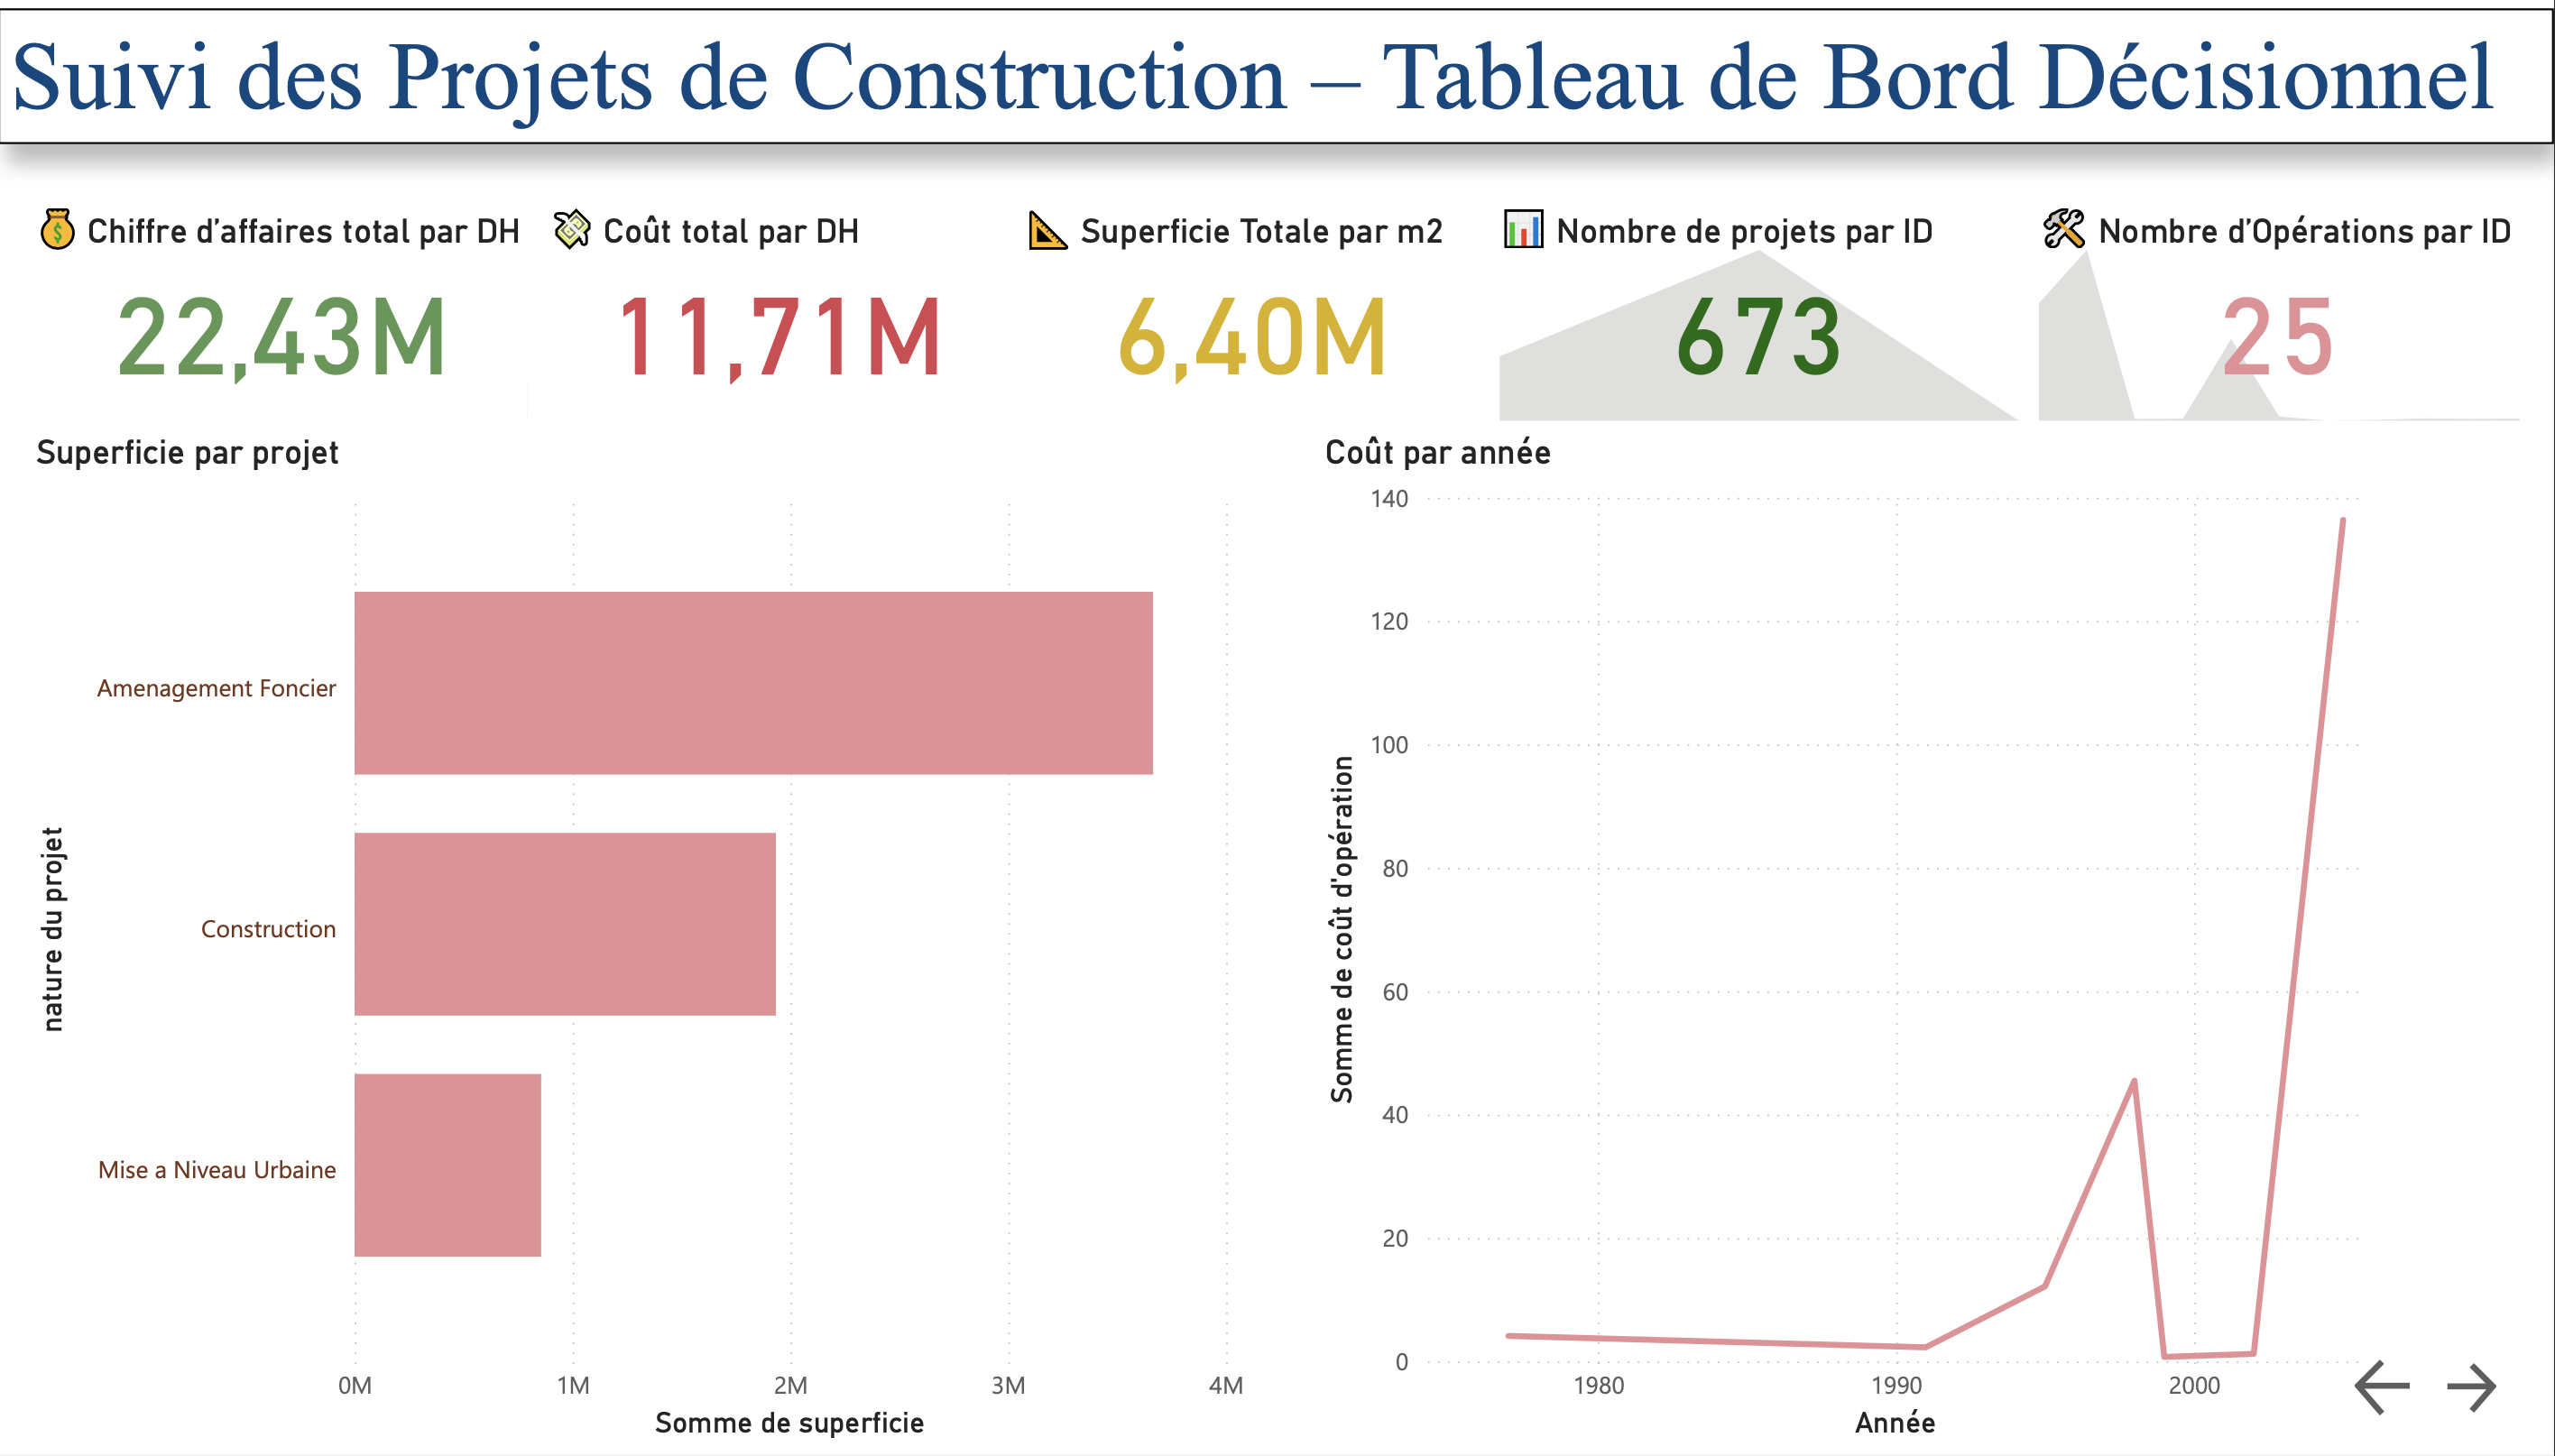

The page's visual inventory and layout, read from the dashboard file:
{"tool":"powerbi","page":{"name":"Page 2","canvas":[1280,720],"ordinal":1},"visuals":[{"type":"textbox","box":[0,0,1280,68.1],"z":0},{"type":"kpi","fields":{"Indicator":["Sum(FactSuivi.CA)"],"TrendLine":["FactSuivi.CA"]},"box":[14.3,96.8,256.4,114.7],"z":1000},{"type":"kpi","fields":{"Indicator":["Sum(FactSuivi.coût_opération)"],"TrendLine":["FactSuivi.coût_opération"]},"box":[270.7,96.8,238.4,114.7],"z":2000},{"type":"kpi","fields":{"Indicator":["Sum(FactSuivi.superficie )"],"TrendLine":["FactSuivi.superficie "]},"box":[509.1,96.8,238.4,114.7],"z":3000},{"type":"kpi","fields":{"Indicator":["CountNonNull(FactSuivi.ID_Projet)"],"TrendLine":["FactSuivi.ID_Projet"]},"box":[747,96.8,269.9,114.5],"z":4000},{"type":"barChart","title":"Superficie par projet","fields":{"Y":["Sum(FactSuivi.superficie )"],"Category":["DimProjet.nature_projet"]},"box":[14.3,211.5,614.9,509.1],"z":5000},{"type":"lineChart","title":"Coût par année","fields":{"Y":["Sum(FactSuivi.coût_opération)"],"Category":["DimDate.Année"]},"box":[659.7,211.5,532.4,509.1],"z":6000},{"type":"actionButton","box":[1220.8,674.1,59.2,34.1],"z":7000},{"type":"actionButton","box":[1176,672.3,44.8,37.6],"z":8000},{"type":"kpi","fields":{"Indicator":["CountNonNull(FactSuivi.ID_Opération)"],"TrendLine":["FactSuivi.ID_Opération"]},"box":[1016.9,96.8,250.8,114.5],"z":8001}]}

Visuals, with their boxes in screenshot pixels (x1, y1, x2, y2), scaled from the page's 1280x720 canvas onto the 2555x1456 screenshot:
textbox: Rect(0, 0, 2554, 138)
kpi - Sum(FactSuivi.CA) x FactSuivi.CA: Rect(29, 196, 540, 428)
kpi - Sum(FactSuivi.coût_opération) x FactSuivi.coût_opération: Rect(540, 196, 1016, 428)
kpi - Sum(FactSuivi.superficie ) x FactSuivi.superficie : Rect(1016, 196, 1492, 428)
kpi - CountNonNull(FactSuivi.ID_Projet) x FactSuivi.ID_Projet: Rect(1491, 196, 2030, 428)
"Superficie par projet" barChart: Rect(29, 428, 1256, 1455)
"Coût par année" lineChart: Rect(1317, 428, 2380, 1455)
actionButton: Rect(2437, 1363, 2554, 1433)
actionButton: Rect(2347, 1359, 2437, 1435)
kpi - CountNonNull(FactSuivi.ID_Opération) x FactSuivi.ID_Opération: Rect(2030, 196, 2531, 428)
